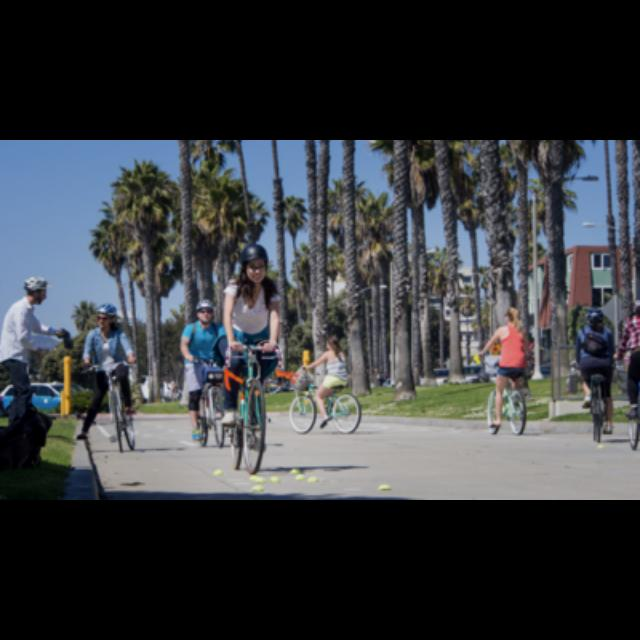With Helmet: (236, 242, 270, 286), (192, 296, 218, 326), (95, 304, 116, 330)
Without Helmet: (501, 301, 523, 327), (322, 334, 342, 354)
